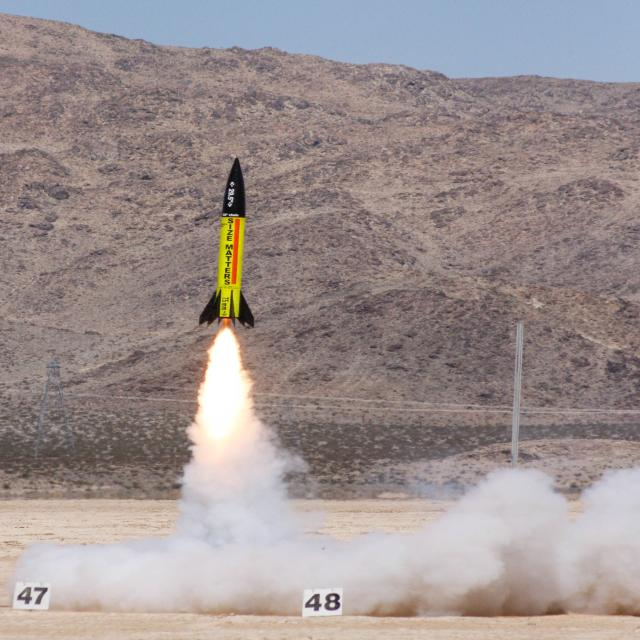Rocket: (198, 156, 257, 330)
